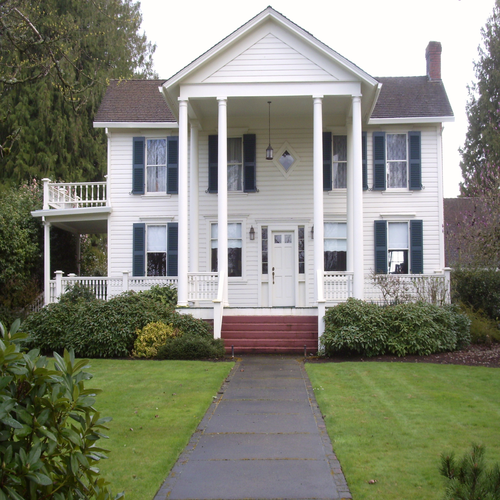Building House: (21, 6, 455, 340)
